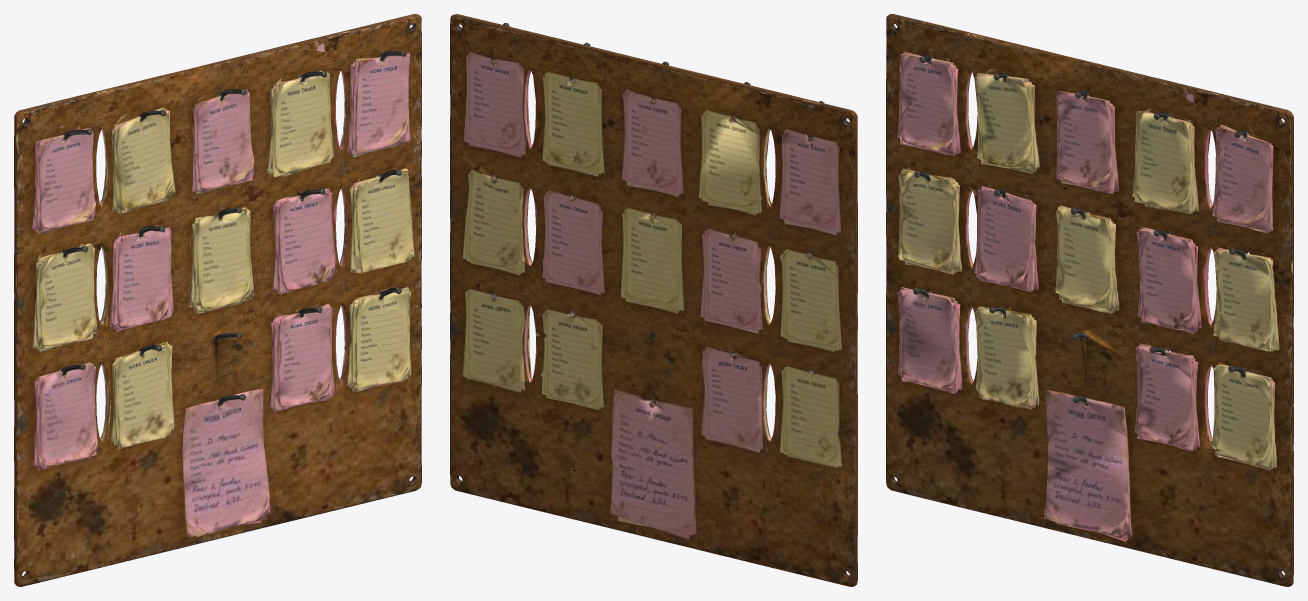
File: orders.glb
3 renders of one model, left to right at view 1: azimuth 30°, elevation 25°; view 2: azimuth 150°, elevation 25°; view 3: azimuth 330°, elevation 25°, orthographic.
Size of the model in its own units: 1.7 by 1.9 by 0.1638.
1 material, 1 textured.
